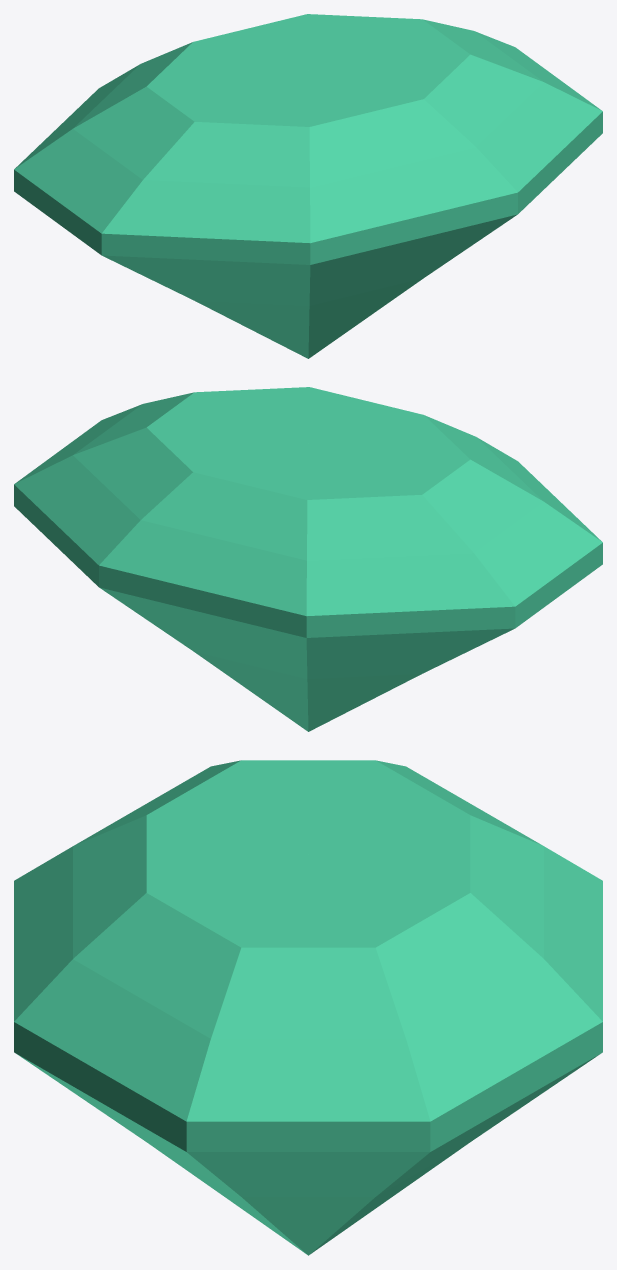
Rendered from emerald-glass.glb.
3 views of the same model, one above another, from view 1: azimuth 30°, elevation 25°; view 2: azimuth 150°, elevation 25°; view 3: azimuth 270°, elevation 25° (orthographic). The views are drawn at different scales.
Visible parts, largest first — view 1: Emerald; view 2: Emerald; view 3: Emerald.
Boxes of the visible parts, x1,y1,x2,y2 form: Emerald: [14, 14, 602, 358]; Emerald: [14, 387, 602, 731]; Emerald: [14, 760, 602, 1255].
Bounding box in the file's own units: 2.4 × 1.32 × 1.76.
